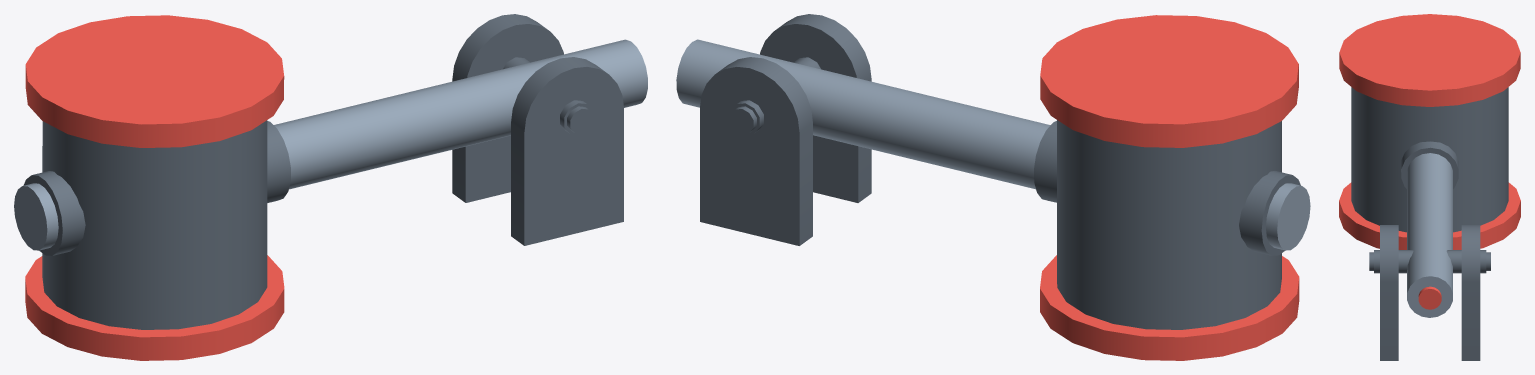
File: Hammer.fbx
3 views of the same model, side by side, from view 1: azimuth 30°, elevation 25°; view 2: azimuth 150°, elevation 25°; view 3: azimuth 270°, elevation 25° (orthographic). The views are drawn at different scales.
Visible parts, largest first — view 1: Hammer, HammerBase; view 2: Hammer, HammerBase; view 3: Hammer, HammerBase.
Part boxes in pixels (x1,y1,x2,y2): Hammer: [14, 15, 647, 360]; HammerBase: [452, 14, 623, 245]; Hammer: [676, 15, 1310, 360]; HammerBase: [700, 14, 871, 245]; Hammer: [1339, 14, 1520, 317]; HammerBase: [1380, 225, 1480, 360].
Bounding box in the file's own units: 538 × 200 × 200.
